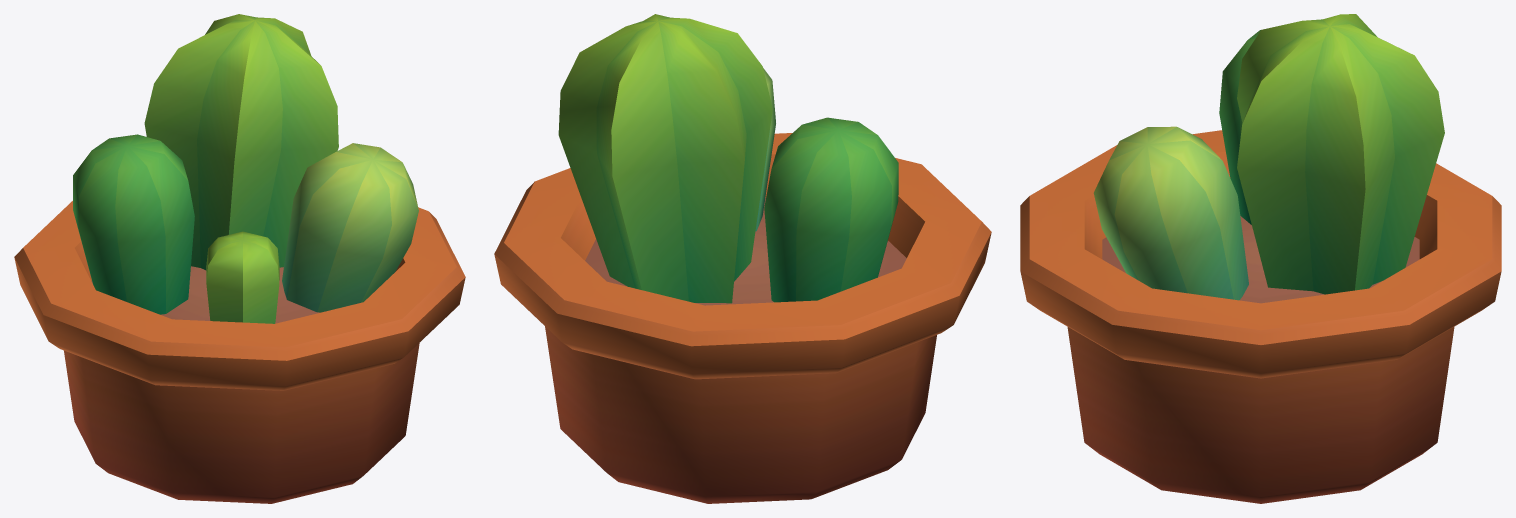
File: cactus_medium_a.glb
3 views of the same model, side by side, from view 1: azimuth 30°, elevation 25°; view 2: azimuth 150°, elevation 25°; view 3: azimuth 270°, elevation 25° (orthographic). The views are drawn at different scales.
Parts seen in each view (by area): view 1: cactus_medium_A; view 2: cactus_medium_A; view 3: cactus_medium_A.
Part boxes in pixels (left/top/right/bottom): cactus_medium_A: left=14, top=14, right=465, bottom=503; cactus_medium_A: left=494, top=14, right=991, bottom=503; cactus_medium_A: left=1020, top=14, right=1501, bottom=503.
Size of the model in its own units: 0.8799 by 0.8273 by 0.8368.
1 material, 1 textured.
